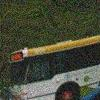buses: (9, 32, 100, 100)
